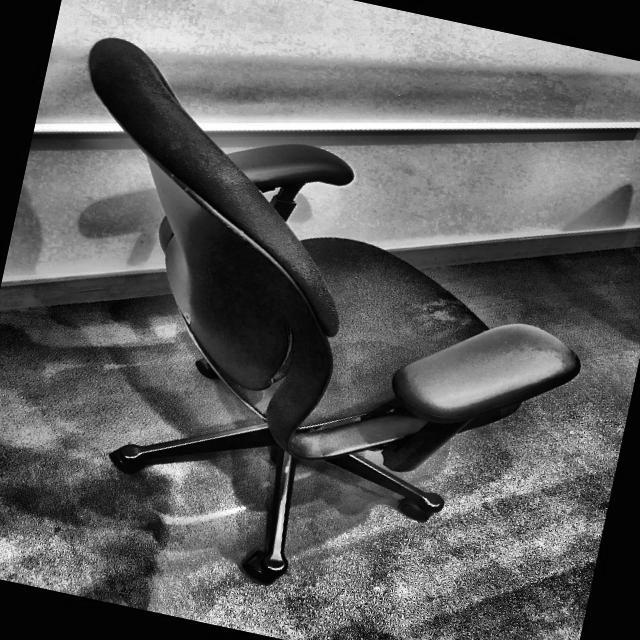chair: (0, 32, 621, 637)
